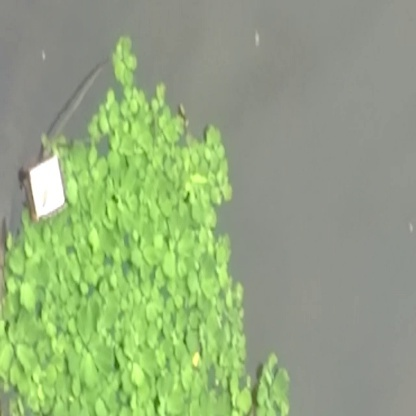grass: (112, 108, 247, 333)
